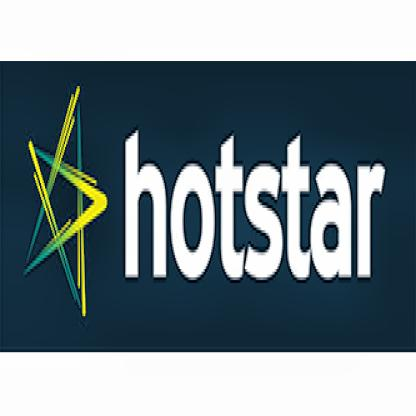Hotstar: (24, 81, 390, 327)
